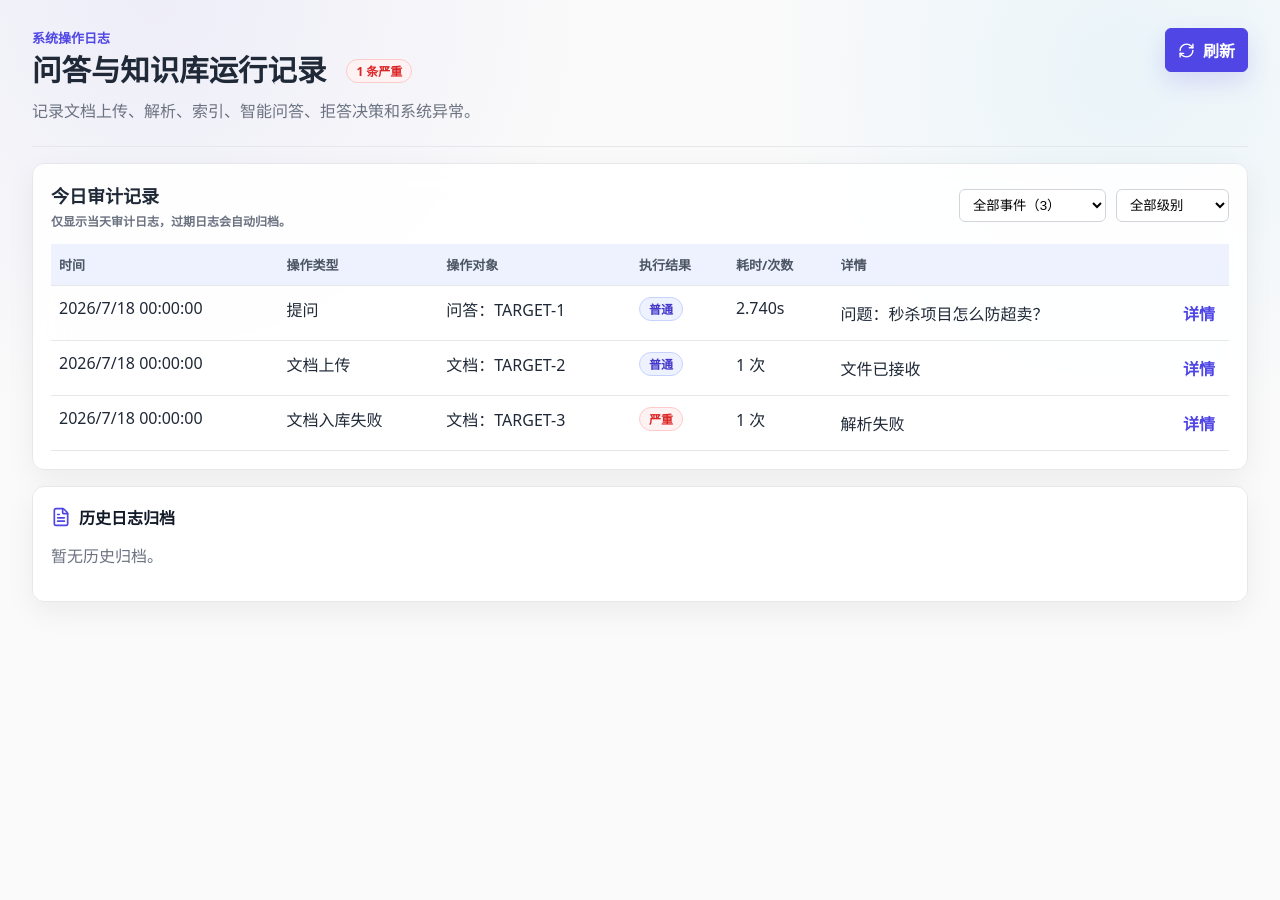
Test case: AuditPage › filters audit events and keeps full QA content in the detail drawer
This screenshot has width=1280, height=900.
Expected: the text "问题：秒杀项目怎么防超卖？" is shown, [840,300,1048,324]
Expected: the text "秒杀系统通过 Redis 预扣库存防止超卖，与项目介绍文档一致。[1]" is not shown
Select "异常" in the dropdown named "事件筛选": (1032, 206) [959,189,1106,222]
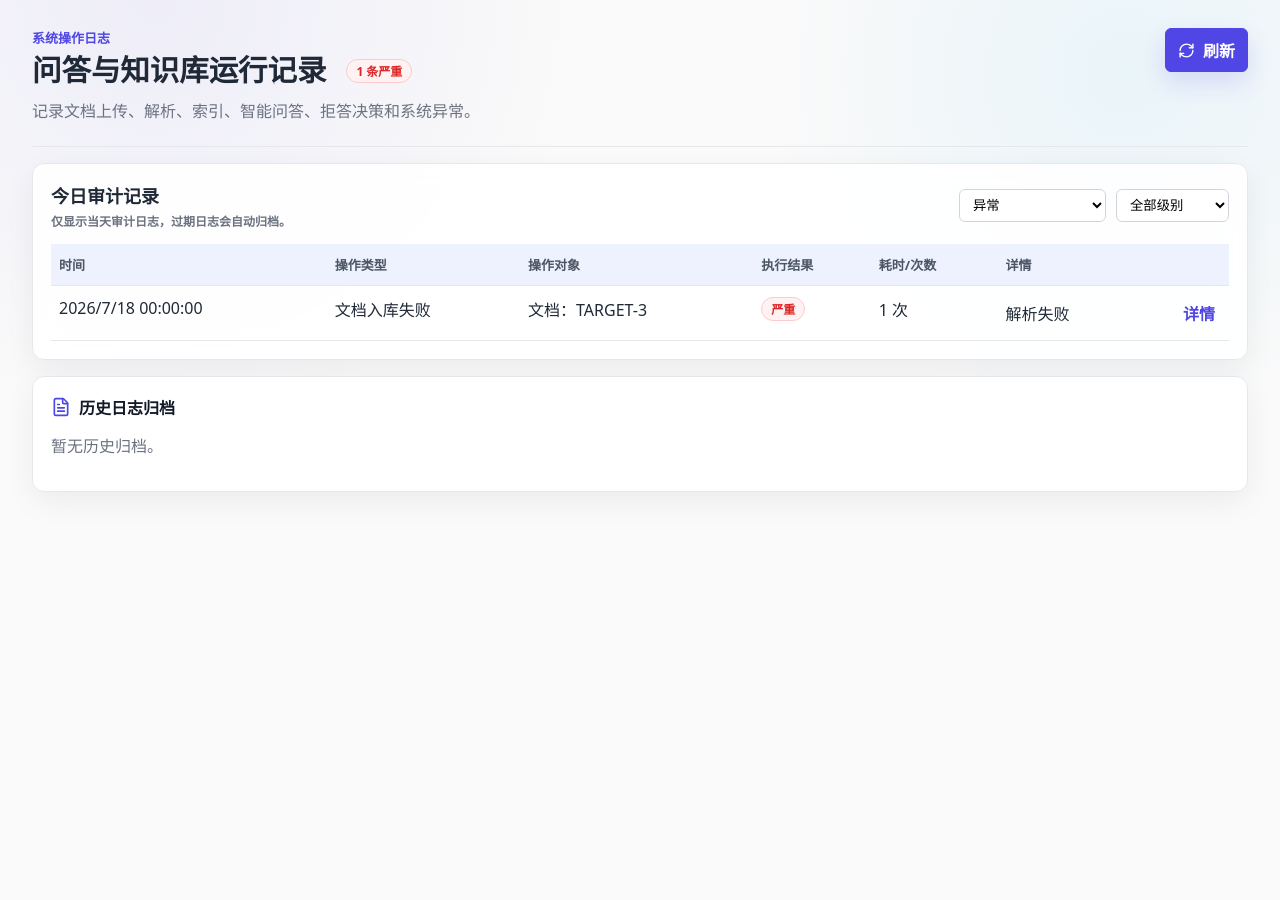
Expected: the text "文档入库失败" is shown, [327,285,520,340]
Result: the text "问题：秒杀项目怎么防超卖？" is gone
Select "问答" in the dropdown named "事件筛选": (1032, 206) [959,189,1106,222]
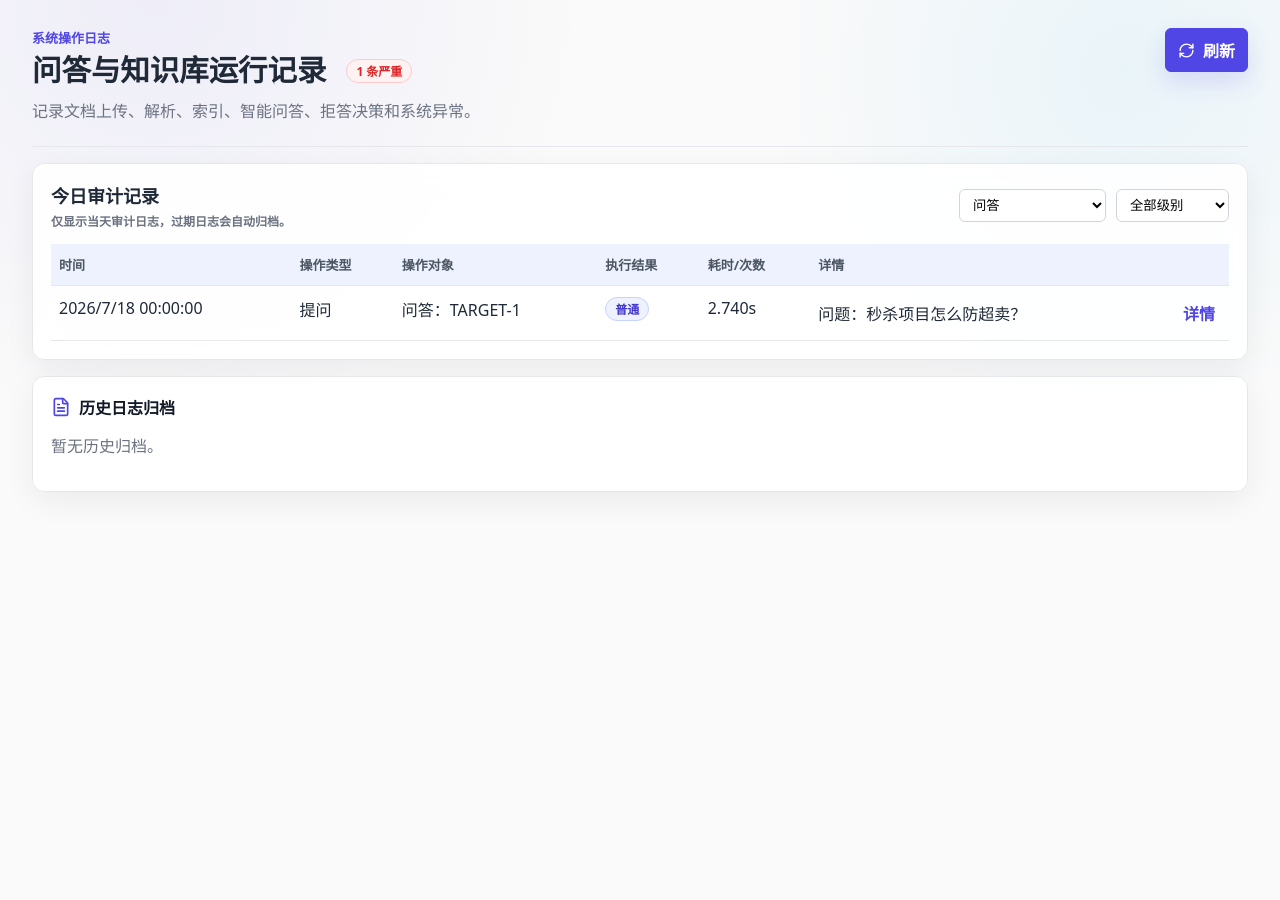
Click the button "详情": (1199, 312) [1177,296,1221,328]
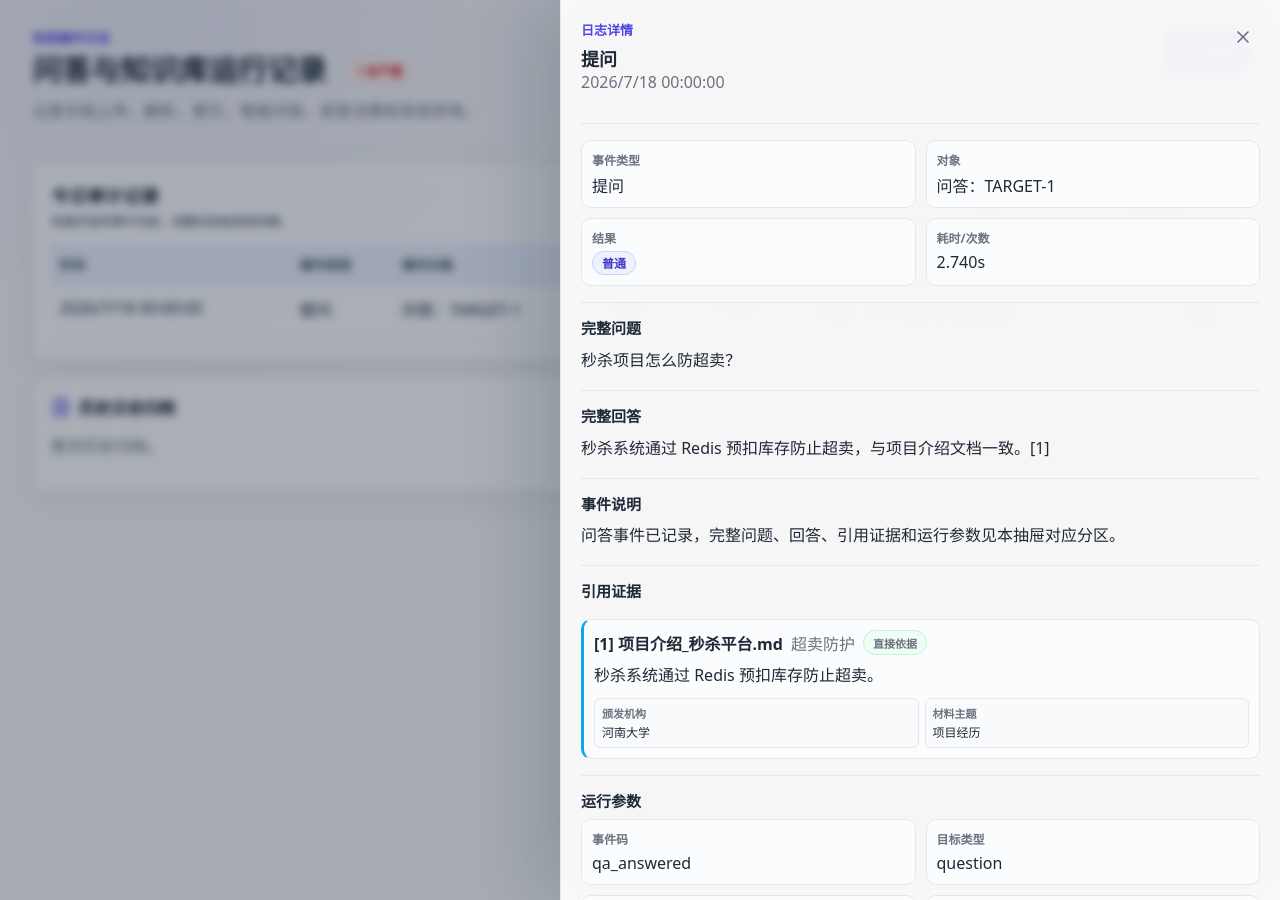
Result: the dialog "日志详情" is shown at [560,0,1279,899]
Result: the text "秒杀系统通过 Redis 预扣库存防止超卖，与项目介绍文档一致。[1]" is shown at [581,437,1050,459]
Result: the text "[1] 项目介绍_秒杀平台.md" is shown at [594,631,783,655]
Press Escape
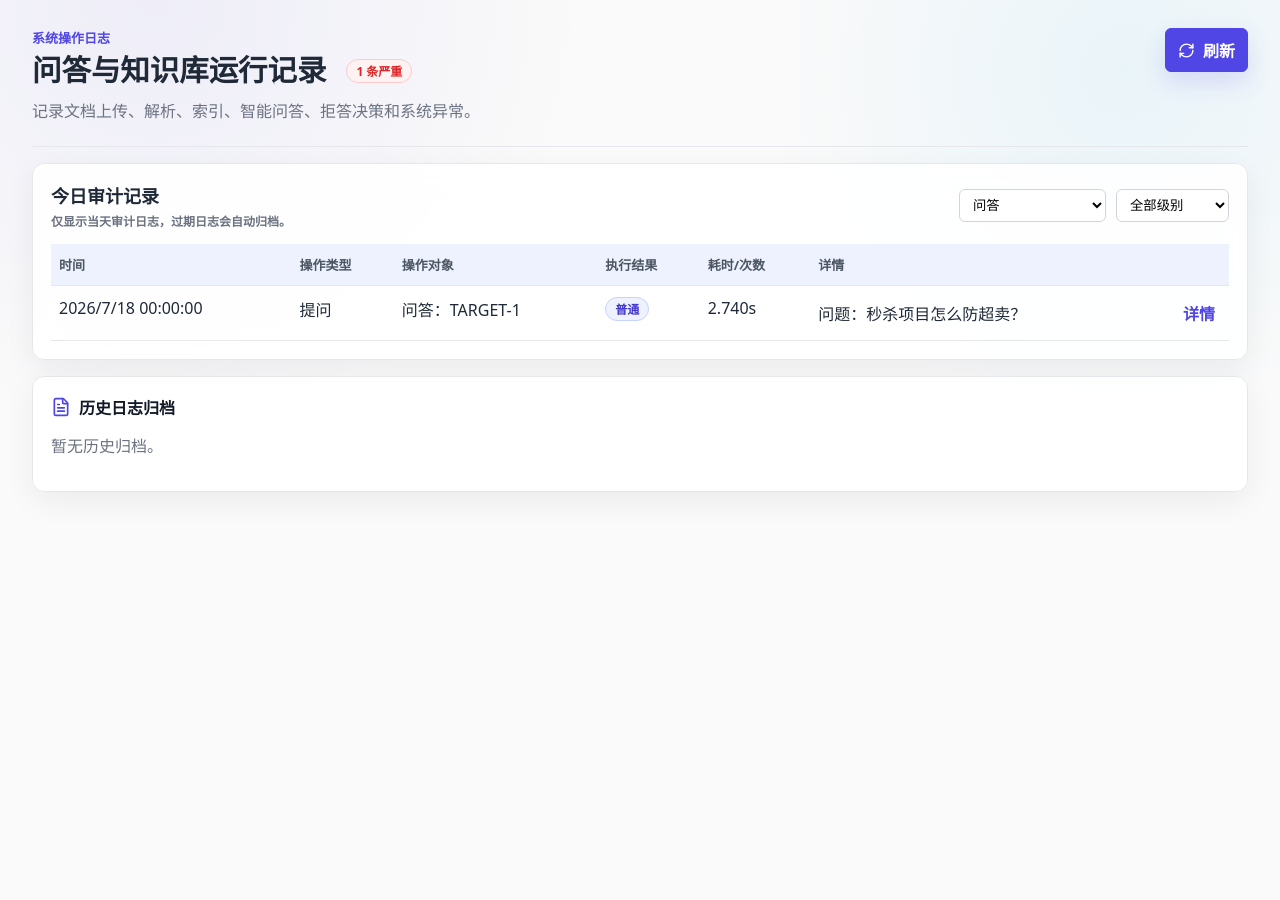
Result: the text "日志详情" is gone
